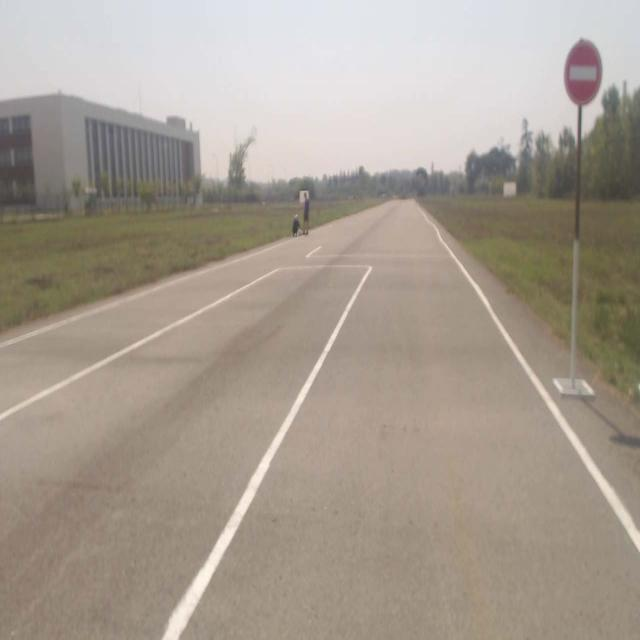girisyok: (565, 40, 603, 106)
